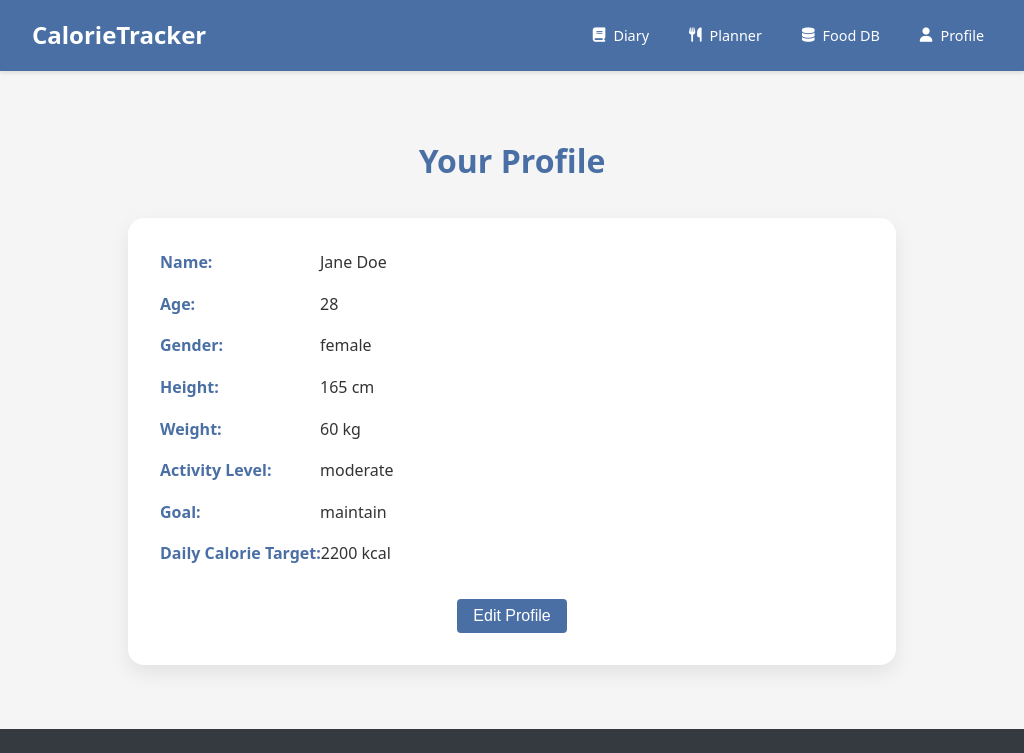
Scenario: Profile Page › enters edit mode and displays editable fields
This screenshot has width=1024, height=753.
Click the button "Edit Profile": (512, 616) [457, 599, 566, 633]
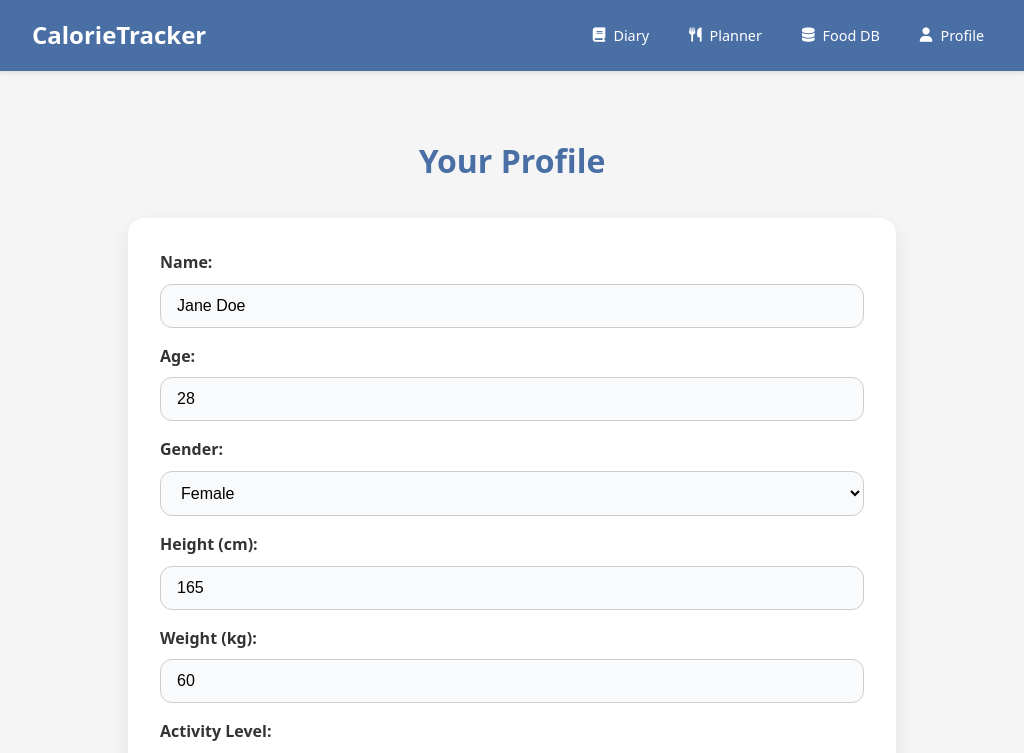
Expected: the field named "name" holds "Jane Doe", [160, 284, 864, 328]
Expected: the number field named "age" below "Age:" holds "28", [160, 377, 864, 421]
Expected: the number field named "weight" below "Weight (kg):" holds "60", [160, 659, 864, 703]
